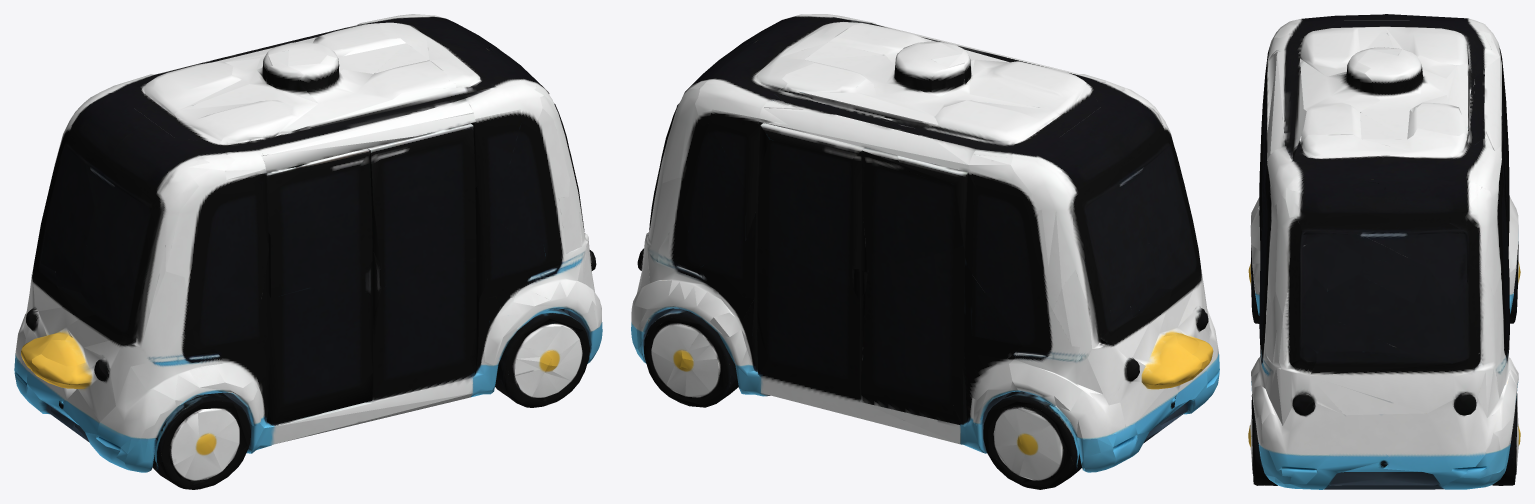
The model's file is InduckCar.fbx.
The picture shows the model from 3 angles, left to right: view 1: azimuth 30°, elevation 25°; view 2: azimuth 150°, elevation 25°; view 3: azimuth 270°, elevation 25°; orthographic projection. The views are drawn at different scales.
Parts seen in each view (by area): view 1: Mesh_0; view 2: Mesh_0; view 3: Mesh_0.
Boxes of the visible parts, x1,y1,x2,y2 form: Mesh_0: (14, 14, 602, 489); Mesh_0: (631, 14, 1219, 489); Mesh_0: (1248, 14, 1520, 489).
Size of the model in its own units: 190 by 121 by 88.04.
Materials: 1 (1 with a texture image).
